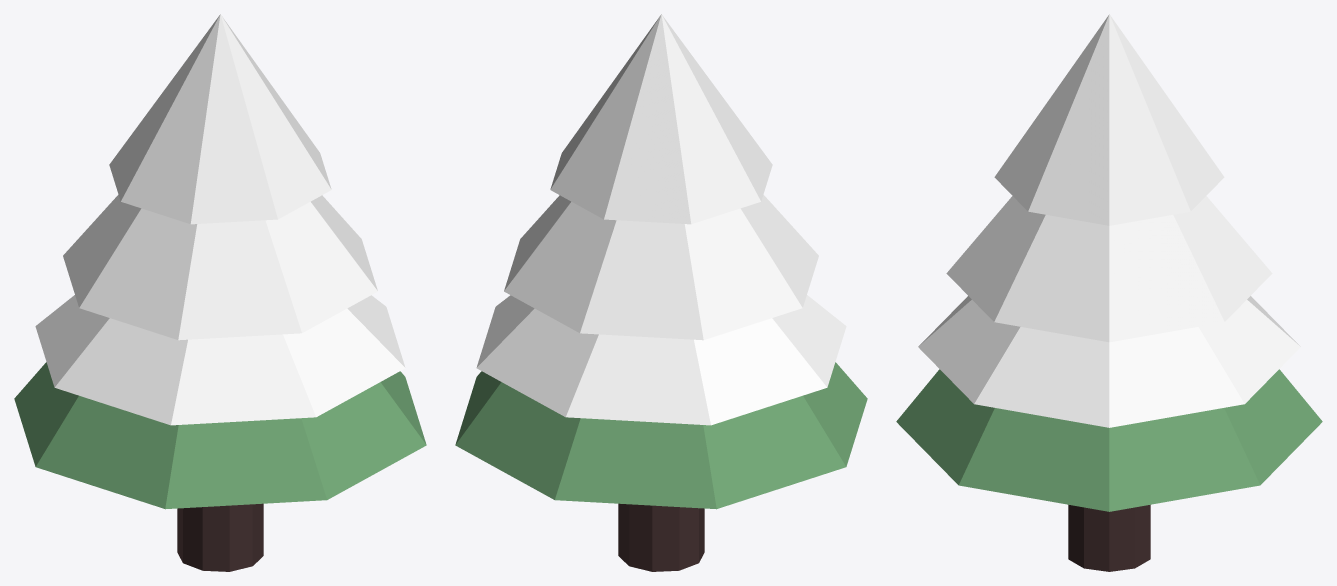
The model's file is white_tree2.fbx.
3 views of the same model, side by side, from view 1: azimuth 30°, elevation 25°; view 2: azimuth 150°, elevation 25°; view 3: azimuth 270°, elevation 25° (orthographic).
Visible parts, largest first — view 1: Cylinder_1; view 2: Cylinder_1; view 3: Cylinder_1.
Part boxes in pixels (bbox=[...]): Cylinder_1: bbox=[14, 14, 426, 571]; Cylinder_1: bbox=[455, 14, 867, 571]; Cylinder_1: bbox=[896, 14, 1322, 571].
Size of the model in its own units: 325 by 453 by 325.
